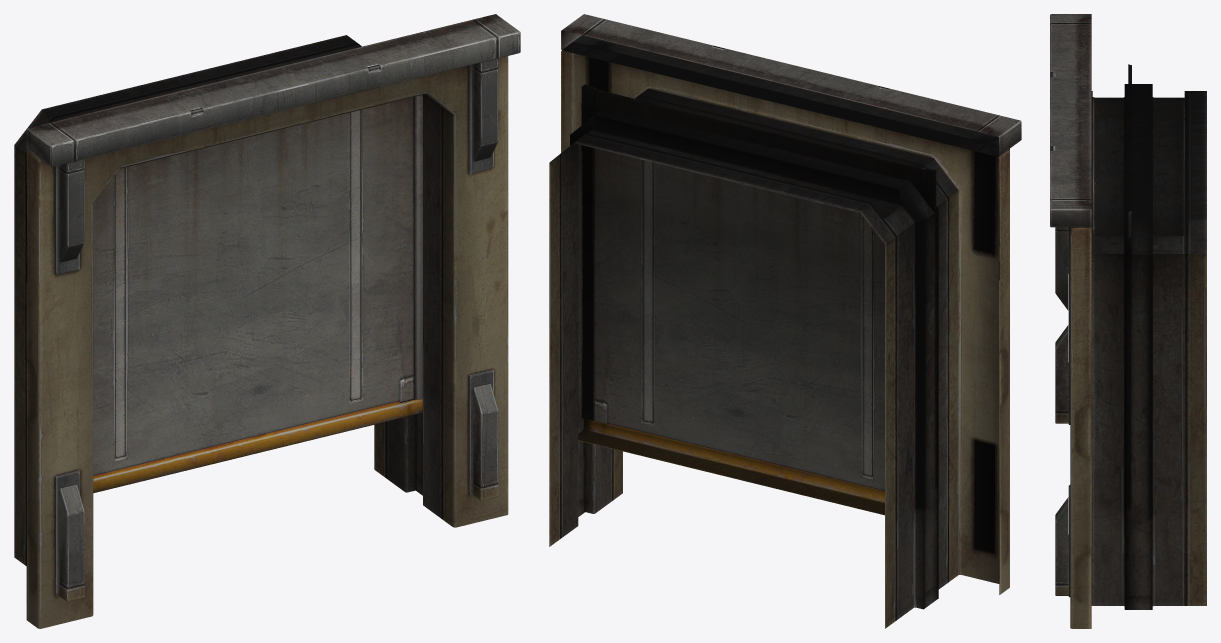
File: 01_02_machine_room_track_door_pplant.dae
3 renders of one model, left to right at view 1: azimuth 30°, elevation 25°; view 2: azimuth 150°, elevation 25°; view 3: azimuth 270°, elevation 25°, orthographic. The views are drawn at different scales.
Visible parts, largest first — view 1: low; view 2: low; view 3: low.
Boxes of the visible parts, x1,y1,x2,y2 form: low: (14, 14, 520, 628); low: (549, 14, 1021, 628); low: (1050, 14, 1206, 628).
Size of the model in its own units: 4.27 by 4.26 by 1.44.
